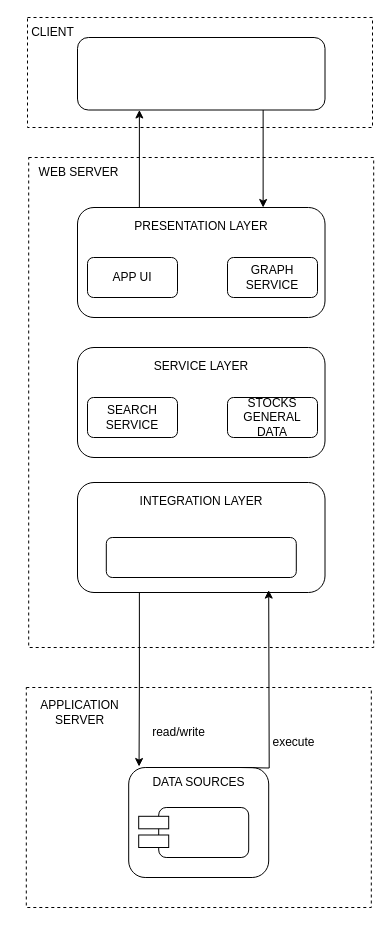
This 391x925 diagram has some shape labels left out. The centre of each missing label's shape, as x and y in pixels:
"DATA SOURCE ACCESS" goes at [200,557].
"FILE SYSTEM" goes at [203,832].
"WEB BROWSER (HTML, CSS, JAVASCRIPT, AJAX)" goes at [200,73].
